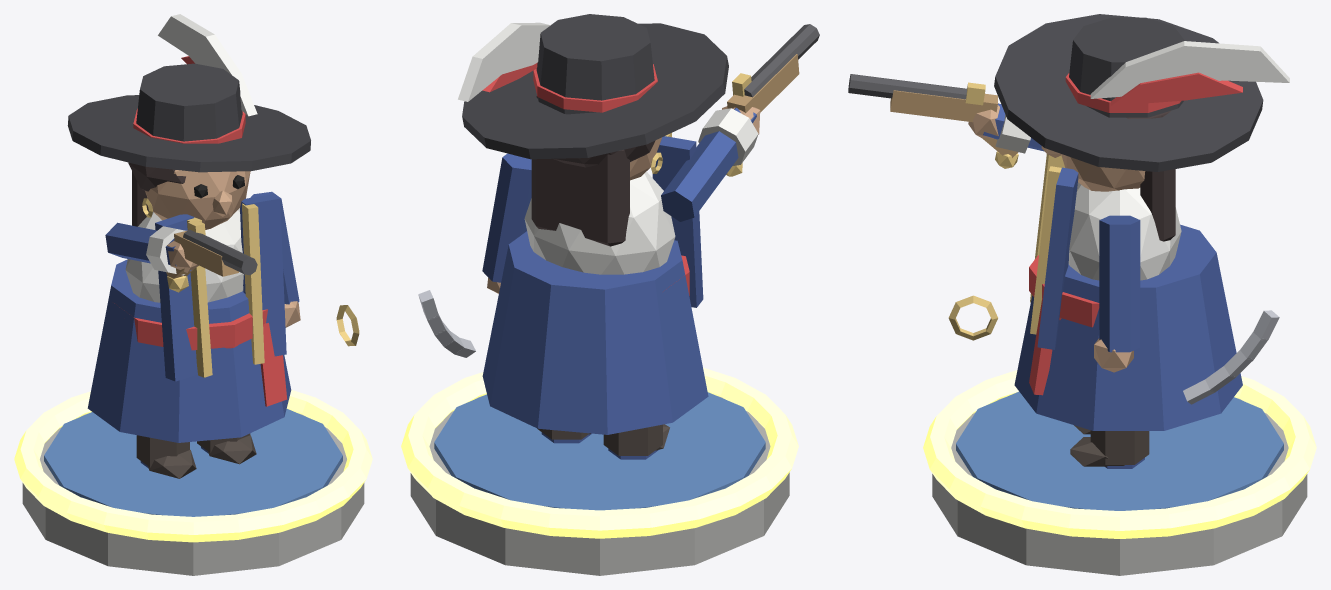
File: isla.glb
3 views of the same model, side by side, from view 1: azimuth 30°, elevation 25°; view 2: azimuth 150°, elevation 25°; view 3: azimuth 270°, elevation 25° (orthographic). The views are drawn at different scales.
Parts seen in each view (by area): view 1: Cylinder.546, Cone.111, Torus.042, Cylinder.545, Cylinder.555, Cone.112, Cube.307, Icosphere.368, Cube.305, Icosphere.367, Slab.034, Cube.308 (+16 smaller); view 2: Cone.111, Cylinder.546, Torus.042, Cylinder.555, Cylinder.545, Cone.112, Cube.304, Icosphere.367, Cylinder.562, Cylinder.551, Slab.034, Cube.305 (+7 smaller); view 3: Cone.111, Cylinder.546, Cylinder.555, Torus.042, Cylinder.545, Slab.034, Cylinder.551, Cone.112, Icosphere.367, Cube.307, Slab.035, Cube.311 (+14 smaller).
Part boxes in pixels (box(x1,y1,x2,y2)): Cylinder.546: box(44, 409, 342, 516); Cone.111: box(87, 259, 291, 442); Torus.042: box(14, 389, 372, 542); Cylinder.545: box(22, 414, 364, 575); Cylinder.555: box(67, 95, 310, 172); Cone.112: box(136, 63, 242, 141); Cube.307: box(240, 194, 286, 356); Icosphere.368: box(145, 170, 250, 229); Cube.305: box(155, 214, 196, 381); Icosphere.367: box(125, 208, 243, 302); Slab.034: box(158, 14, 257, 116); Cube.308: box(242, 203, 264, 364); Cone.111: box(482, 231, 708, 434); Cylinder.546: box(434, 392, 765, 510); Torus.042: box(401, 367, 798, 538); Cylinder.555: box(462, 23, 728, 159); Cylinder.545: box(410, 396, 789, 575); Cone.112: box(536, 14, 654, 114); Cube.304: box(531, 150, 629, 246); Icosphere.367: box(524, 171, 675, 274); Cylinder.562: box(661, 107, 756, 221); Cylinder.551: box(482, 153, 531, 282); Slab.034: box(458, 22, 550, 101); Cube.305: box(652, 136, 703, 307); Cone.111: box(1014, 224, 1242, 430); Cylinder.546: box(956, 391, 1283, 510); Cylinder.555: box(994, 14, 1263, 171); Torus.042: box(923, 370, 1316, 538); Cylinder.545: box(932, 398, 1307, 575); Slab.034: box(1090, 41, 1289, 98); Cylinder.551: box(1099, 215, 1140, 352); Cone.112: box(1069, 17, 1184, 117); Icosphere.367: box(1068, 182, 1181, 280); Cube.307: box(1037, 167, 1078, 349); Slab.035: box(1111, 72, 1242, 105); Cube.311: box(890, 90, 997, 122).
Size of the model in its own units: 1.68 by 2.25 by 2.
